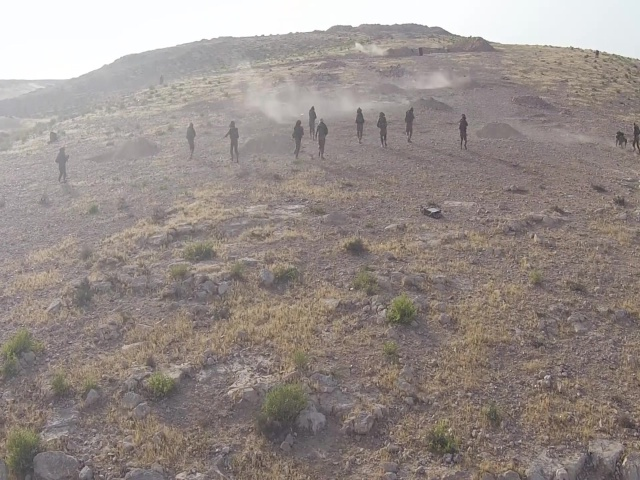person: (54, 147, 71, 183), (454, 112, 469, 152), (314, 118, 328, 160), (227, 119, 240, 164), (305, 105, 319, 146), (185, 121, 198, 162), (376, 110, 389, 148), (404, 106, 417, 142), (293, 117, 304, 158), (353, 106, 365, 143), (612, 127, 628, 148)
